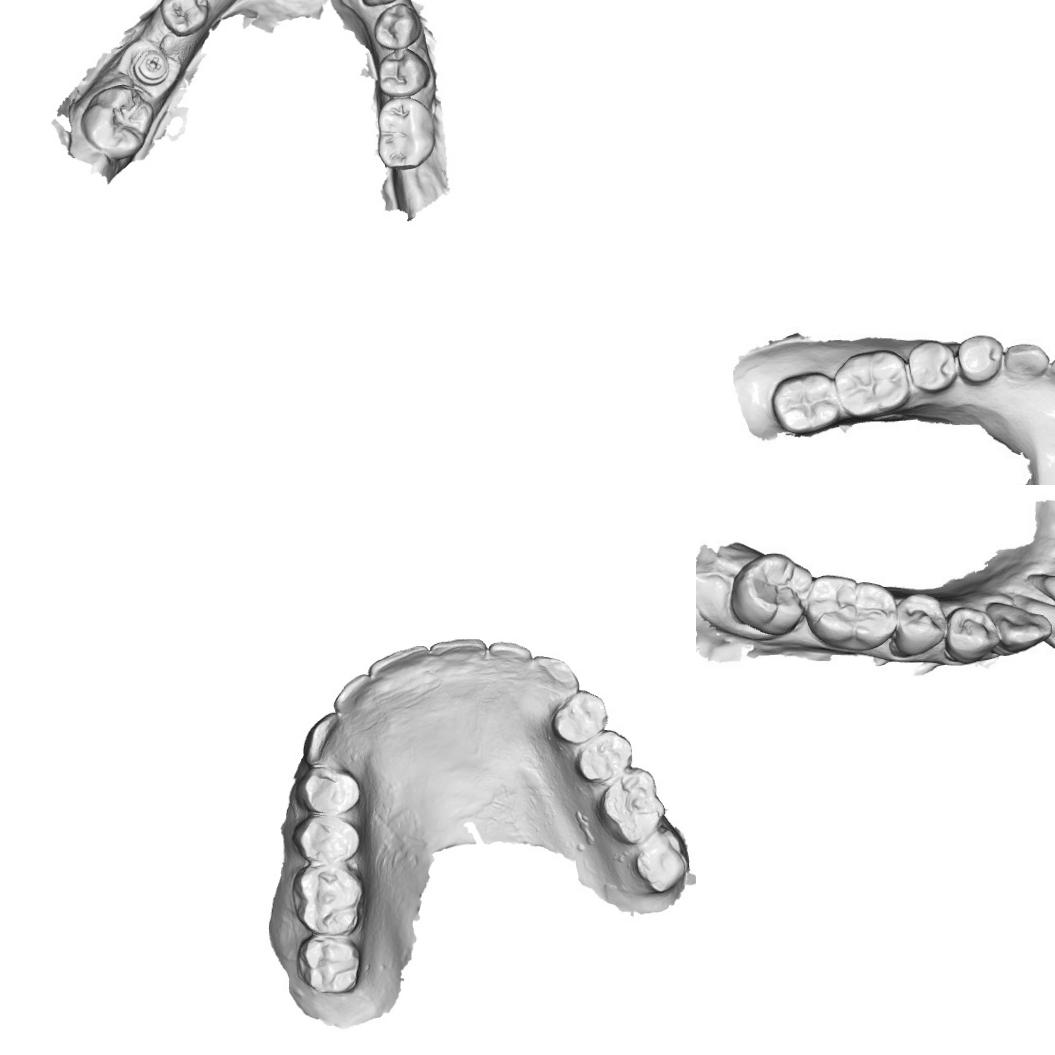canine: (989, 598, 1050, 652), (300, 711, 351, 769), (528, 652, 580, 704), (1002, 341, 1051, 383)
implant_plus: (130, 46, 171, 86)
incisor: (368, 644, 430, 694), (426, 634, 488, 682), (1020, 588, 1055, 658), (332, 670, 375, 724), (486, 639, 534, 675), (1039, 568, 1055, 609), (1044, 354, 1055, 394)
molar: (726, 551, 812, 636), (802, 573, 898, 646), (78, 81, 156, 162), (595, 764, 668, 845), (289, 861, 366, 935), (838, 348, 910, 420), (374, 95, 438, 172), (294, 930, 364, 997), (627, 830, 692, 898), (778, 374, 837, 428)
premolar: (290, 810, 362, 866), (292, 764, 364, 816), (571, 727, 635, 784), (548, 686, 610, 744), (895, 592, 950, 656), (956, 330, 1011, 386), (945, 604, 999, 660), (374, 46, 431, 98), (372, 1, 426, 50), (908, 344, 956, 395), (159, 0, 212, 36)
